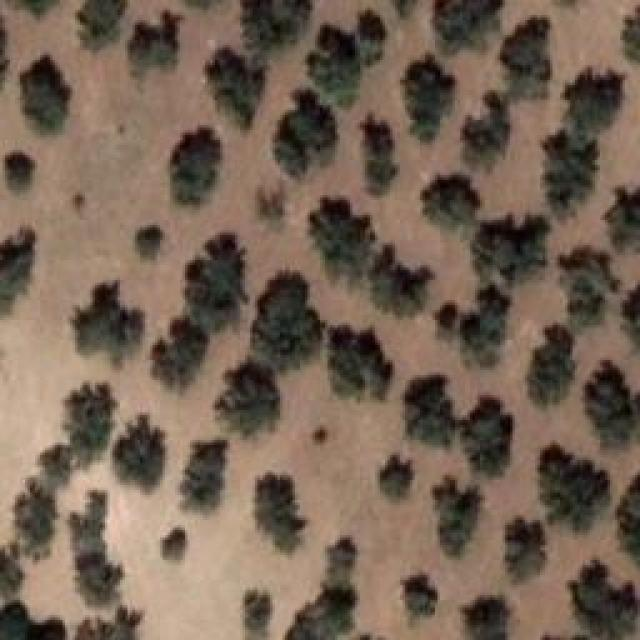Tree: (253, 274, 326, 374), (70, 490, 124, 606), (73, 283, 146, 366), (540, 445, 609, 532), (185, 233, 246, 331), (310, 198, 378, 282), (472, 215, 550, 287), (570, 560, 640, 640), (275, 90, 339, 177), (558, 248, 619, 329), (205, 50, 266, 130), (540, 130, 597, 214), (215, 362, 280, 435), (585, 360, 640, 446), (403, 55, 457, 142), (370, 245, 435, 316), (330, 328, 392, 400), (65, 383, 118, 465), (568, 65, 628, 135), (460, 285, 511, 367), (463, 395, 514, 476), (305, 25, 357, 104), (255, 472, 306, 552), (113, 415, 166, 491), (20, 55, 71, 133), (170, 128, 221, 206), (527, 325, 575, 407), (433, 477, 482, 557), (500, 18, 548, 99), (285, 588, 358, 640), (463, 93, 512, 170), (242, 0, 312, 51), (153, 320, 205, 388), (435, 0, 502, 52), (405, 380, 458, 445), (128, 10, 180, 76), (8, 485, 59, 550), (420, 175, 481, 228), (183, 440, 226, 512), (360, 115, 398, 196), (505, 517, 548, 582), (0, 227, 29, 313), (0, 602, 65, 640), (77, 0, 125, 49), (605, 188, 640, 253), (75, 607, 142, 640), (320, 533, 362, 585), (617, 475, 640, 565), (462, 597, 509, 640), (355, 10, 389, 65), (380, 455, 414, 500), (403, 575, 438, 618), (0, 543, 24, 601), (245, 590, 271, 640), (5, 154, 36, 194), (622, 7, 640, 62), (135, 225, 163, 259), (435, 303, 460, 340), (258, 188, 284, 221), (163, 528, 188, 560), (623, 285, 640, 325), (305, 425, 330, 447)
